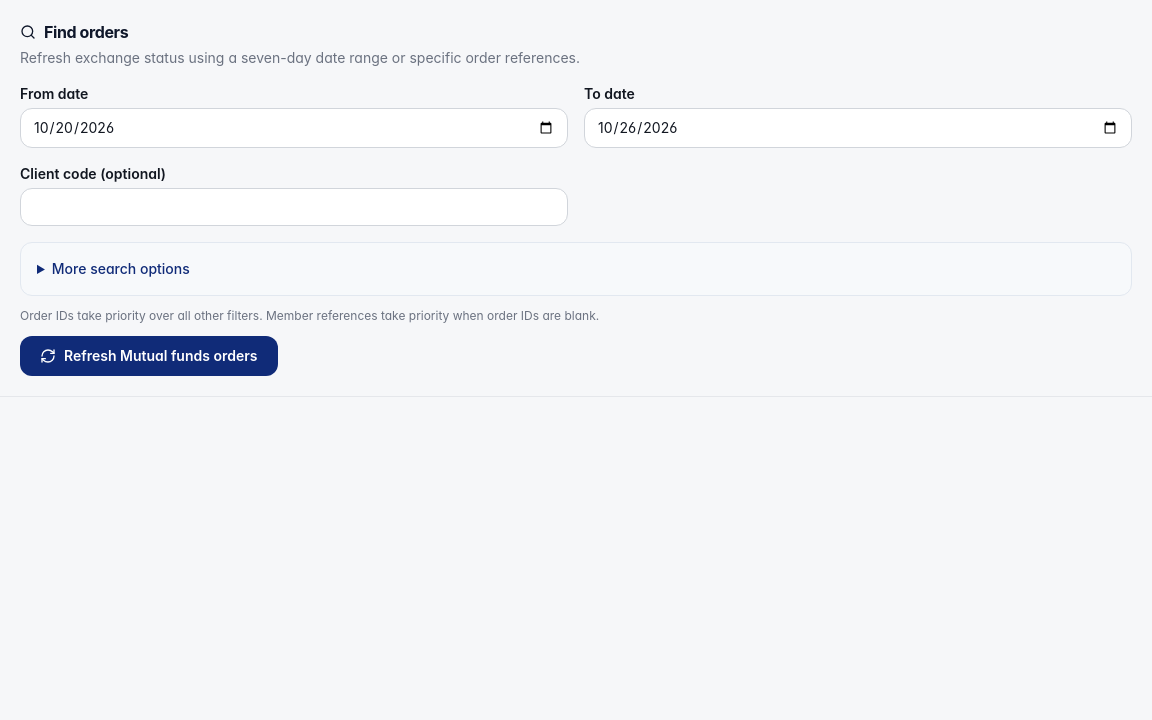
Test: Mutual funds Orders report UI › loads final order status using documented filter values and displays actual remarks
Click the button "Refresh Mutual funds orders" at coordinates (149, 356), box [20,336,278,376]
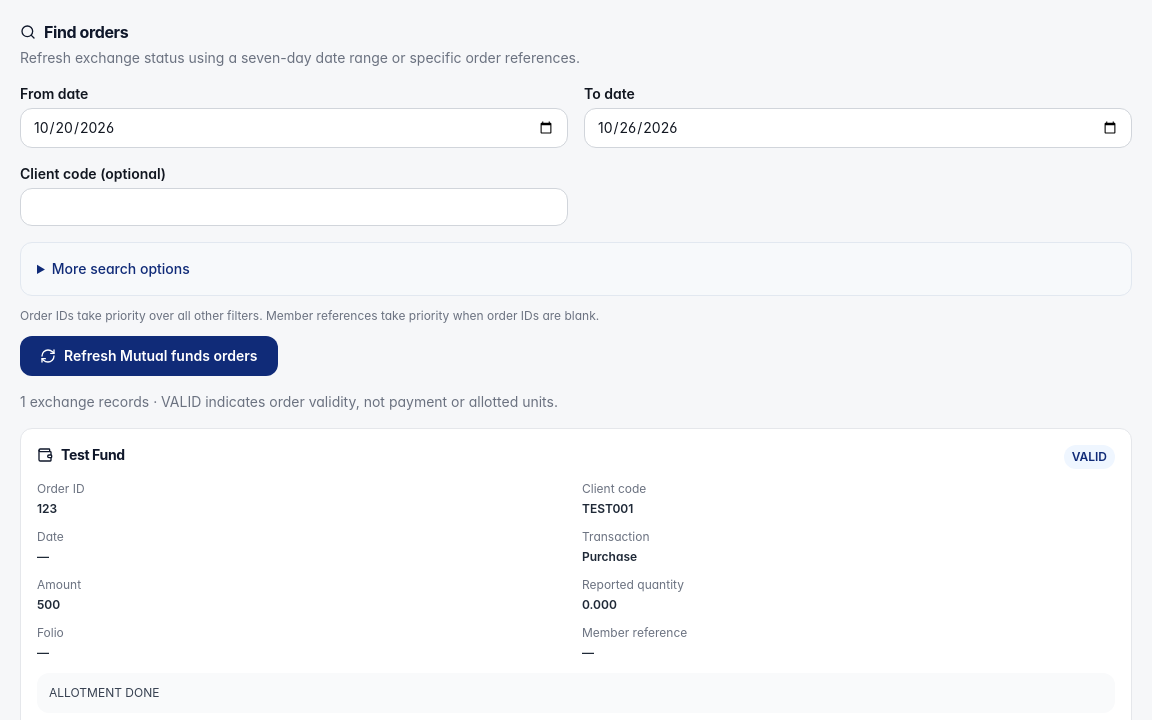
expect the heading "Test Fund" is shown: met, box [37,445,125,465]
expect the text "ALLOTMENT DONE" is shown: met, box [37,673,1115,713]
expect the text "VALID indicates order validity" is shown: met, box [26,393,558,410]
